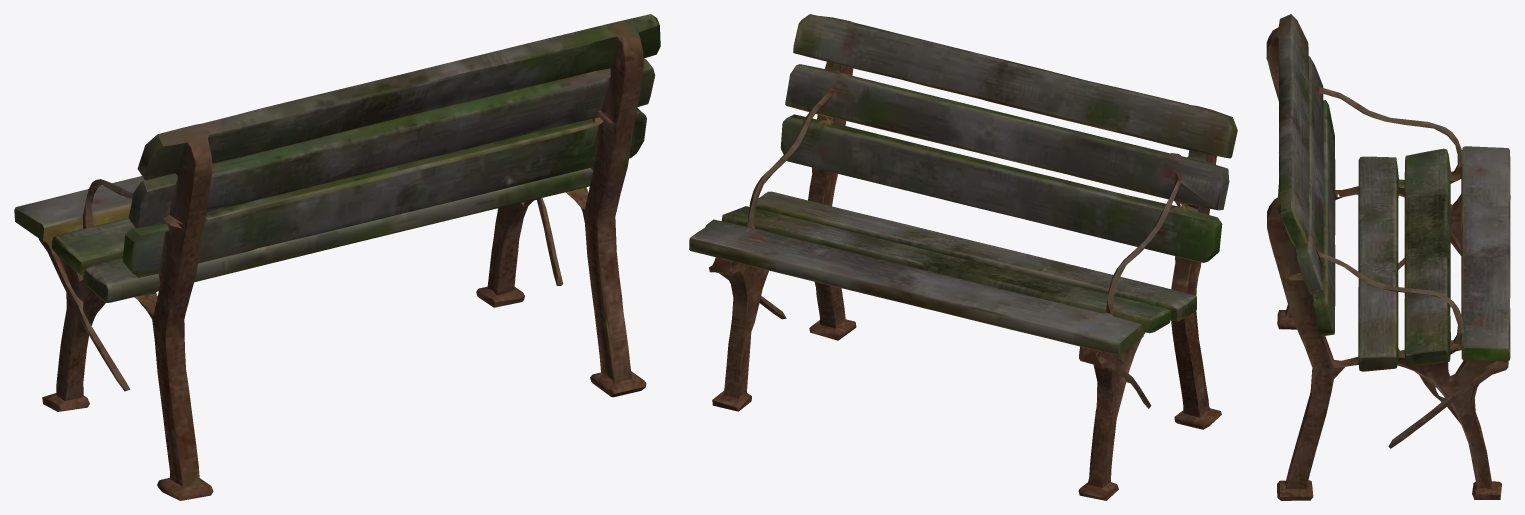
The model's file is bench.glb.
3 renders of one model, left to right at view 1: azimuth 30°, elevation 25°; view 2: azimuth 150°, elevation 25°; view 3: azimuth 270°, elevation 25°, orthographic. The views are drawn at different scales.
Visible parts, largest first — view 1: bench; view 2: bench; view 3: bench.
Boxes of the visible parts, x1=… form: bench: x1=14, y1=14, x2=660, y2=500; bench: x1=689, y1=14, x2=1237, y2=500; bench: x1=1266, y1=14, x2=1510, y2=500.
Bounding box in the file's own units: 1.24 × 0.8502 × 0.6304.
Materials: 1 (1 with a texture image).
